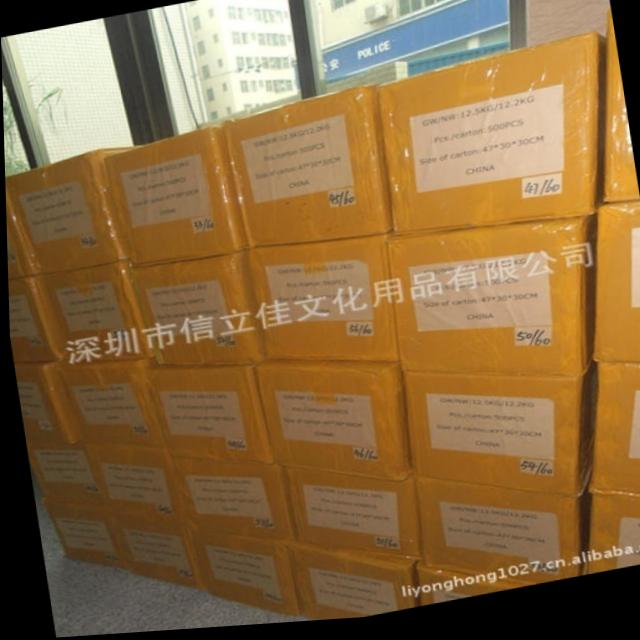box: (380, 37, 604, 239), (382, 224, 595, 383), (224, 89, 391, 248), (398, 372, 592, 504), (106, 125, 248, 269), (251, 364, 408, 487), (408, 482, 588, 589), (249, 239, 395, 366), (6, 146, 144, 275), (130, 253, 262, 368), (149, 367, 270, 468), (282, 472, 414, 562), (40, 261, 152, 362), (167, 456, 290, 543), (287, 543, 417, 624), (190, 528, 292, 621), (58, 360, 161, 447), (590, 209, 640, 371), (599, 14, 638, 213), (106, 513, 198, 592), (587, 370, 640, 504), (84, 447, 175, 522), (6, 275, 72, 363), (574, 498, 640, 584), (11, 363, 78, 446), (41, 503, 120, 571), (23, 439, 99, 506), (414, 574, 528, 612), (4, 183, 38, 279)
